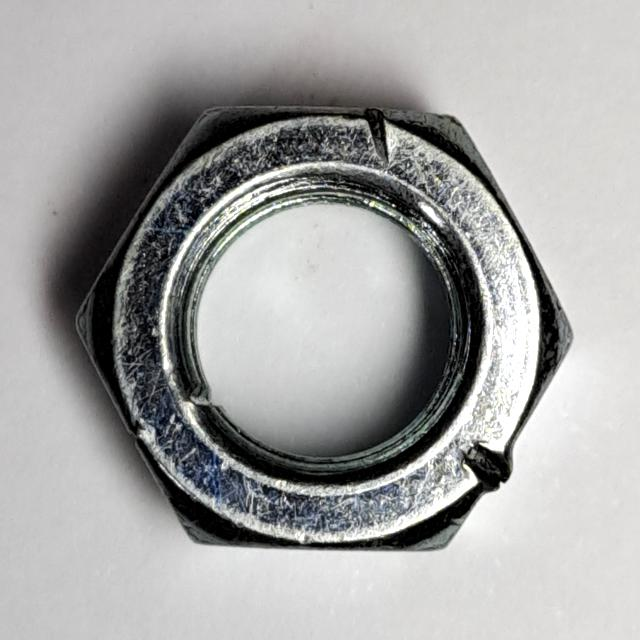Scratches: (62, 89, 588, 570)
